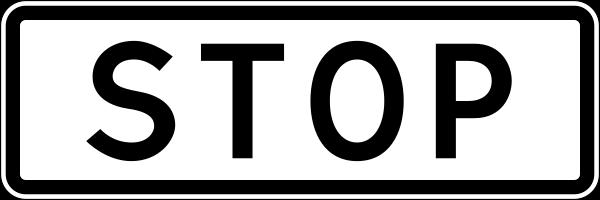Stop: (67, 27, 556, 168)
